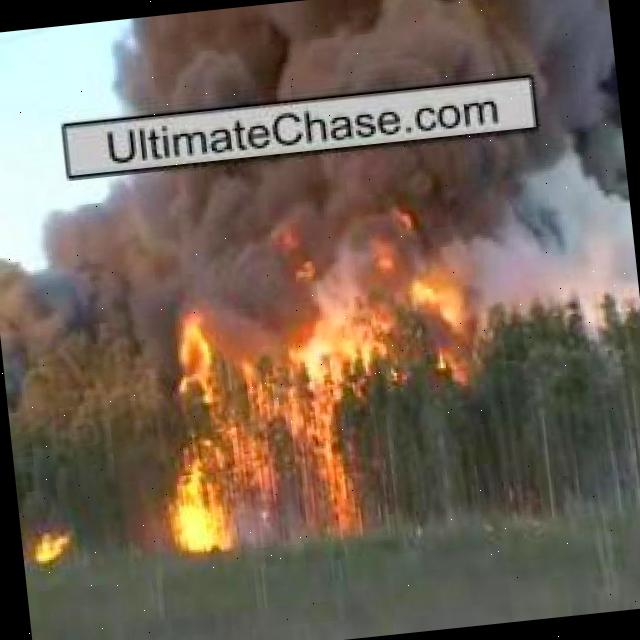fire: (145, 258, 373, 556), (365, 201, 486, 389), (32, 527, 76, 562)
